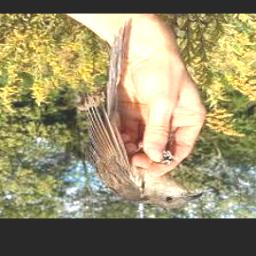Cuckoo: (83, 22, 203, 210)
